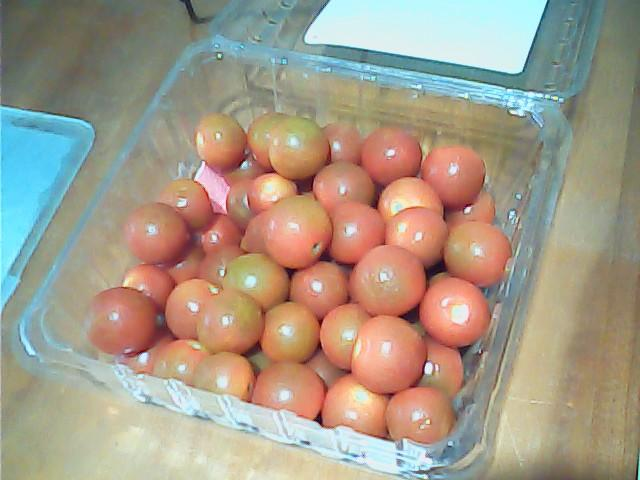defectuoso: (422, 146, 486, 206)
maduro: (349, 318, 427, 394), (84, 286, 160, 355), (351, 250, 425, 315), (417, 281, 489, 342), (323, 203, 385, 268), (323, 376, 388, 433), (383, 206, 444, 265), (356, 128, 422, 181), (294, 261, 349, 313), (117, 264, 174, 309), (191, 214, 240, 261), (195, 248, 243, 284)
verde: (261, 198, 333, 268), (445, 220, 510, 285), (253, 364, 320, 426), (198, 291, 263, 354), (125, 203, 187, 264), (266, 120, 328, 180), (313, 158, 373, 219), (166, 279, 221, 343), (224, 256, 291, 307), (381, 172, 446, 223), (260, 304, 319, 360), (321, 304, 371, 368), (193, 353, 255, 402), (157, 178, 213, 231), (153, 341, 212, 388), (197, 115, 244, 171), (247, 173, 298, 215), (225, 181, 261, 228)
